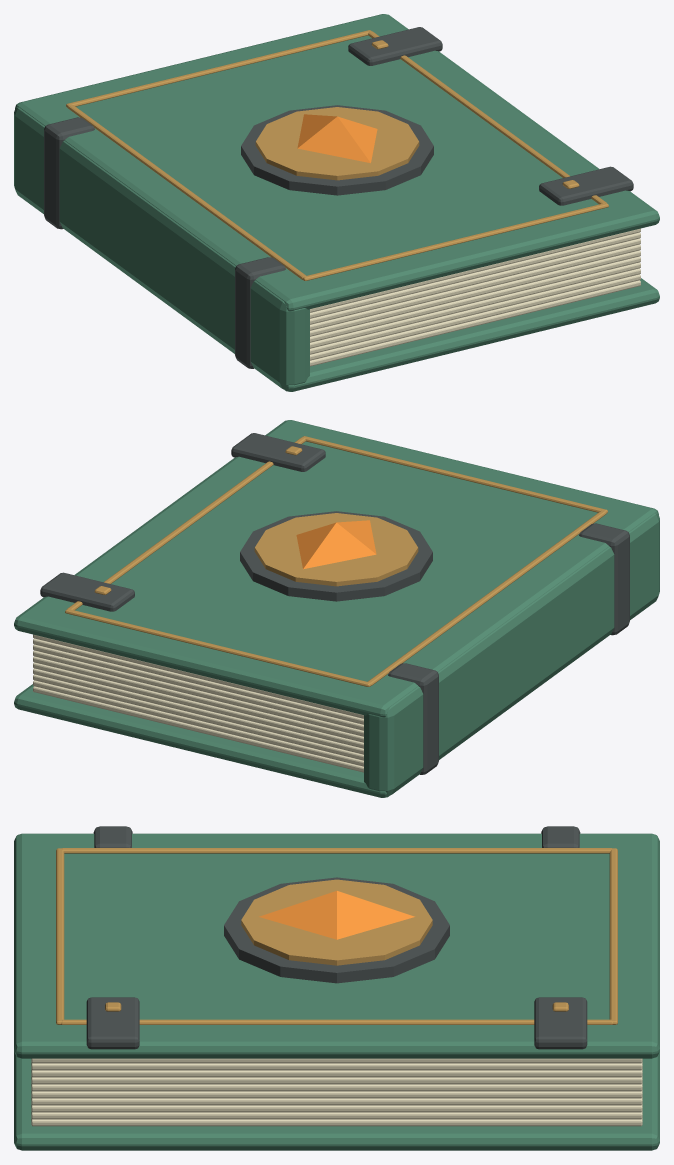
Rendered from SM_FenwatchJournalEmblem.fbx.
3 views of the same model, one above another, from view 1: azimuth 30°, elevation 25°; view 2: azimuth 150°, elevation 25°; view 3: azimuth 270°, elevation 25° (orthographic). The views are drawn at different scales.
Parts seen in each view (by area): view 1: SM_FenwatchJournalEmblem; view 2: SM_FenwatchJournalEmblem; view 3: SM_FenwatchJournalEmblem.
Part boxes in pixels (<box>): SM_FenwatchJournalEmblem: <box>14,14,659,391</box>; SM_FenwatchJournalEmblem: <box>14,420,659,797</box>; SM_FenwatchJournalEmblem: <box>14,826,659,1150</box>.
Bounding box in the file's own units: 22.45 × 28 × 7.45.
